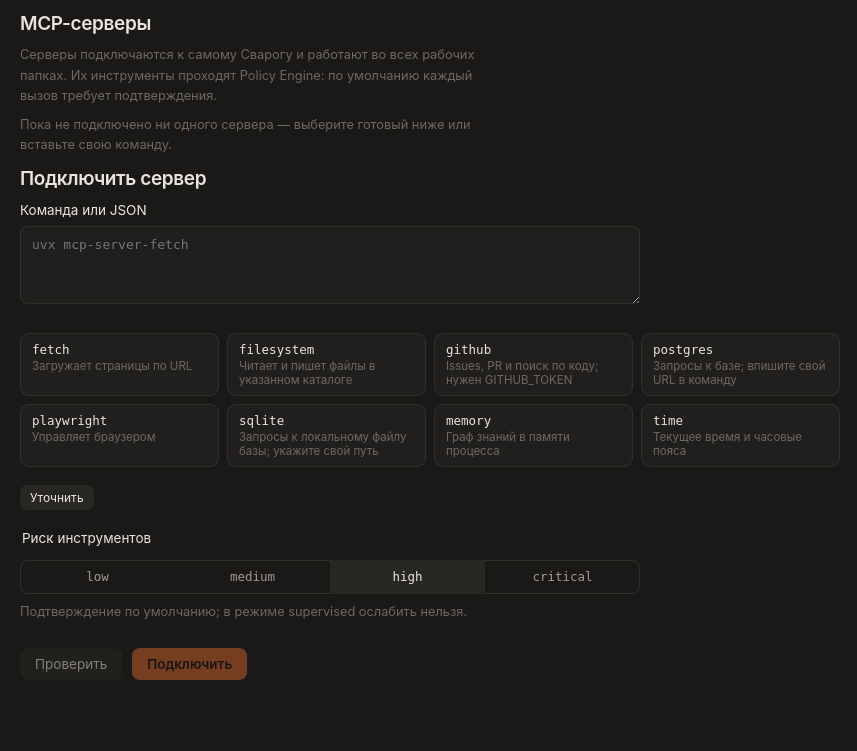
Test case: вкладка MCP: подключение › неразбираемая вставка объясняется и сама раскрывает поля
Click the text box labelled "Команда или JSON" at (330, 265), box [20,226,640,304]
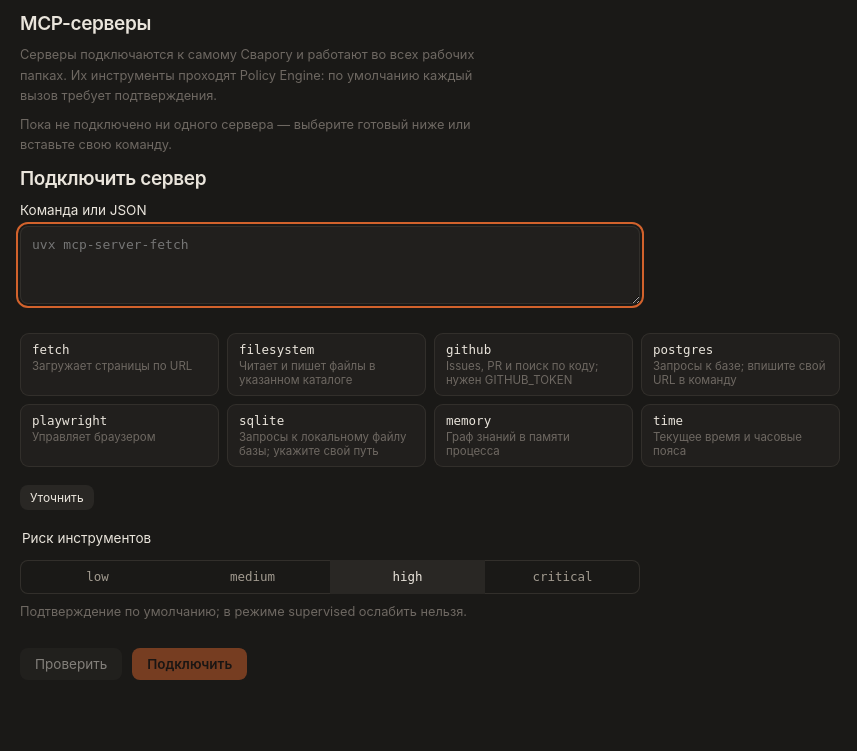
Type keys "{\"mcpServers\":{\"x\":{\"url\":\"https://x\",\"type\":\"sse\"}}}"
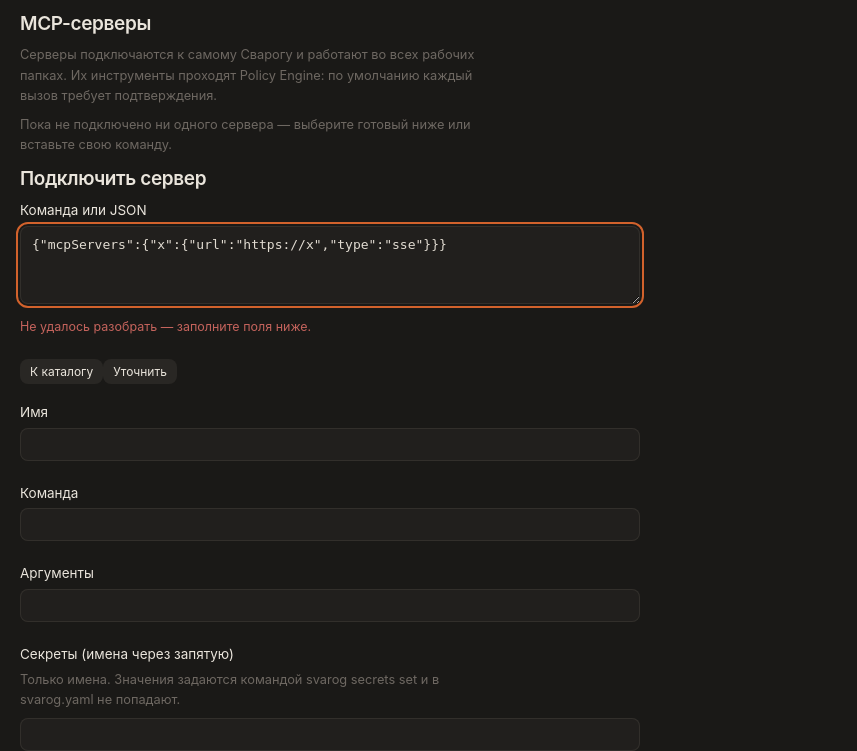
Expected: the field labelled "Команда" is empty, [20,508,640,541]
Expected: the text "Не удалось разобрать — заполните поля ниже." is shown, [20,319,311,334]
Expected: the button "Уточнить" is expanded, [103,359,177,384]
